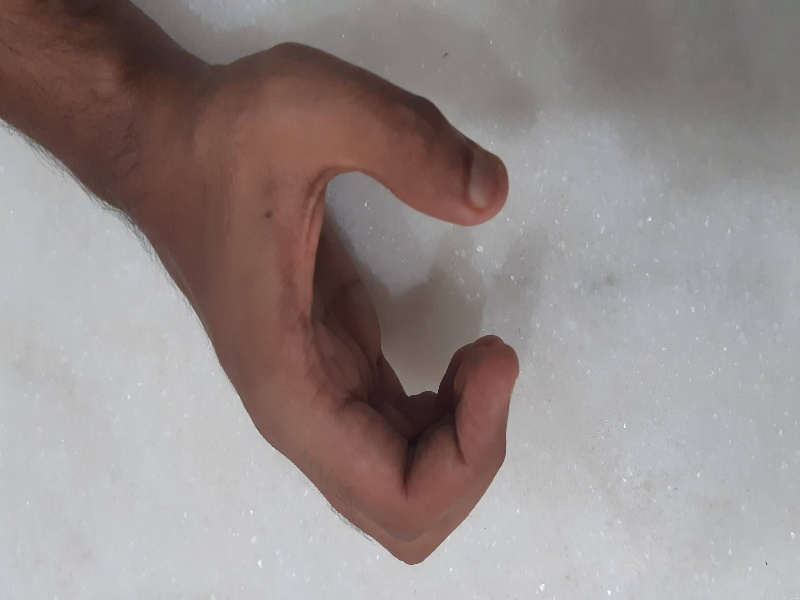one: (164, 22, 553, 578)
